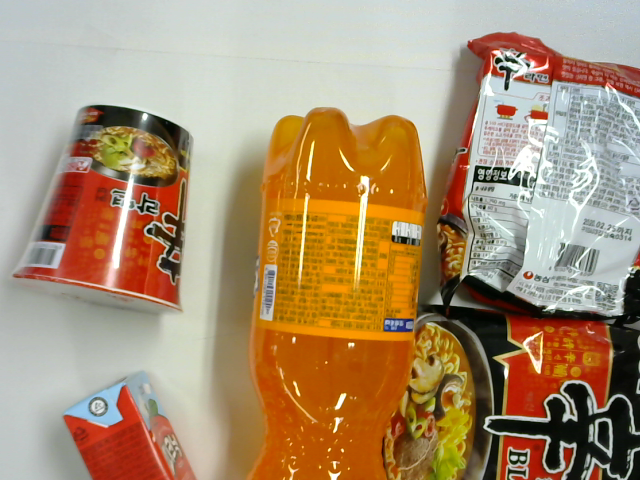Hwanta_Orange_1.5L: (248, 106, 429, 480)
Picnic_Apple: (62, 369, 202, 480)
Sinramen: (435, 32, 640, 325)
Sinramen_Black: (381, 304, 640, 479)
Sinramen_small: (11, 104, 194, 324)
